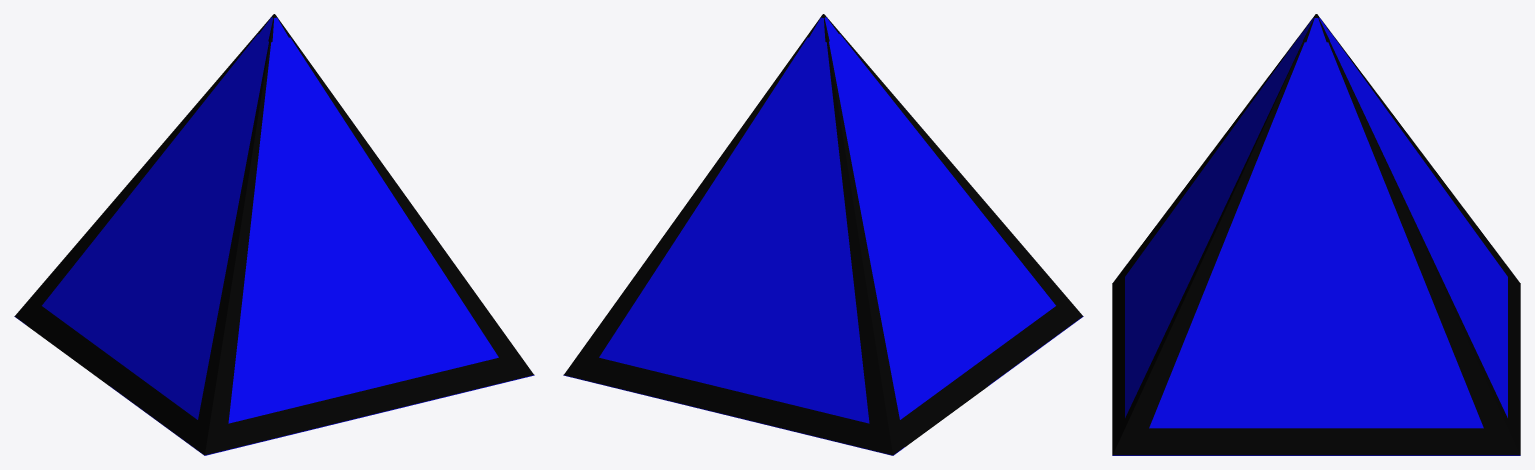
The model's file is Piramid_blue.glb.
The picture shows the model from 3 angles, left to right: view 1: azimuth 30°, elevation 25°; view 2: azimuth 150°, elevation 25°; view 3: azimuth 270°, elevation 25°; orthographic projection. The views are drawn at different scales.
Visible parts, largest first — view 1: Cube; view 2: Cube; view 3: Cube.
Boxes of the visible parts, x1,y1,x2,y2 form: Cube: (14, 14, 534, 455); Cube: (563, 14, 1083, 455); Cube: (1112, 14, 1520, 455).
Bounding box in the file's own units: 2 × 1.92 × 2.
